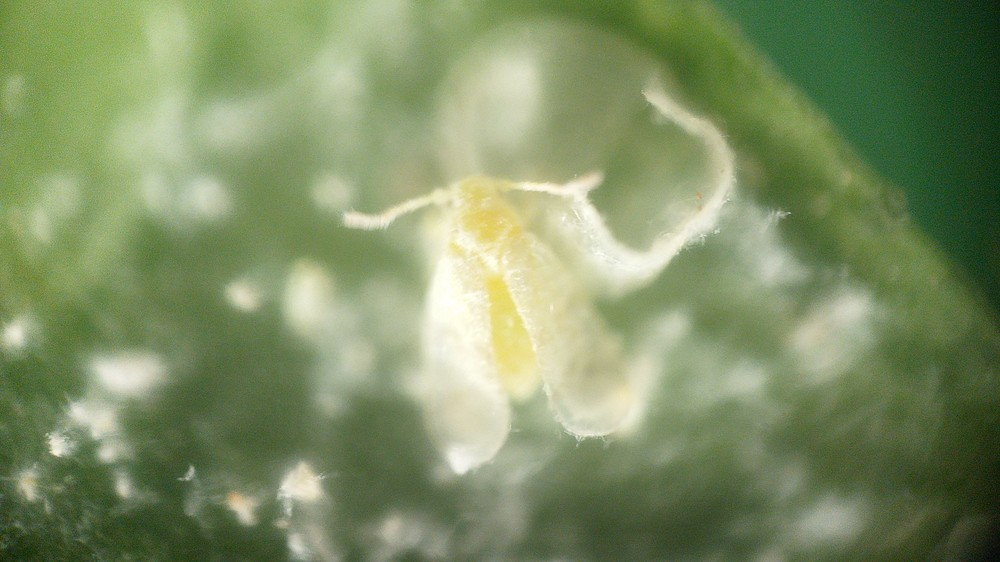Mosca Blanca: (319, 162, 701, 482)
